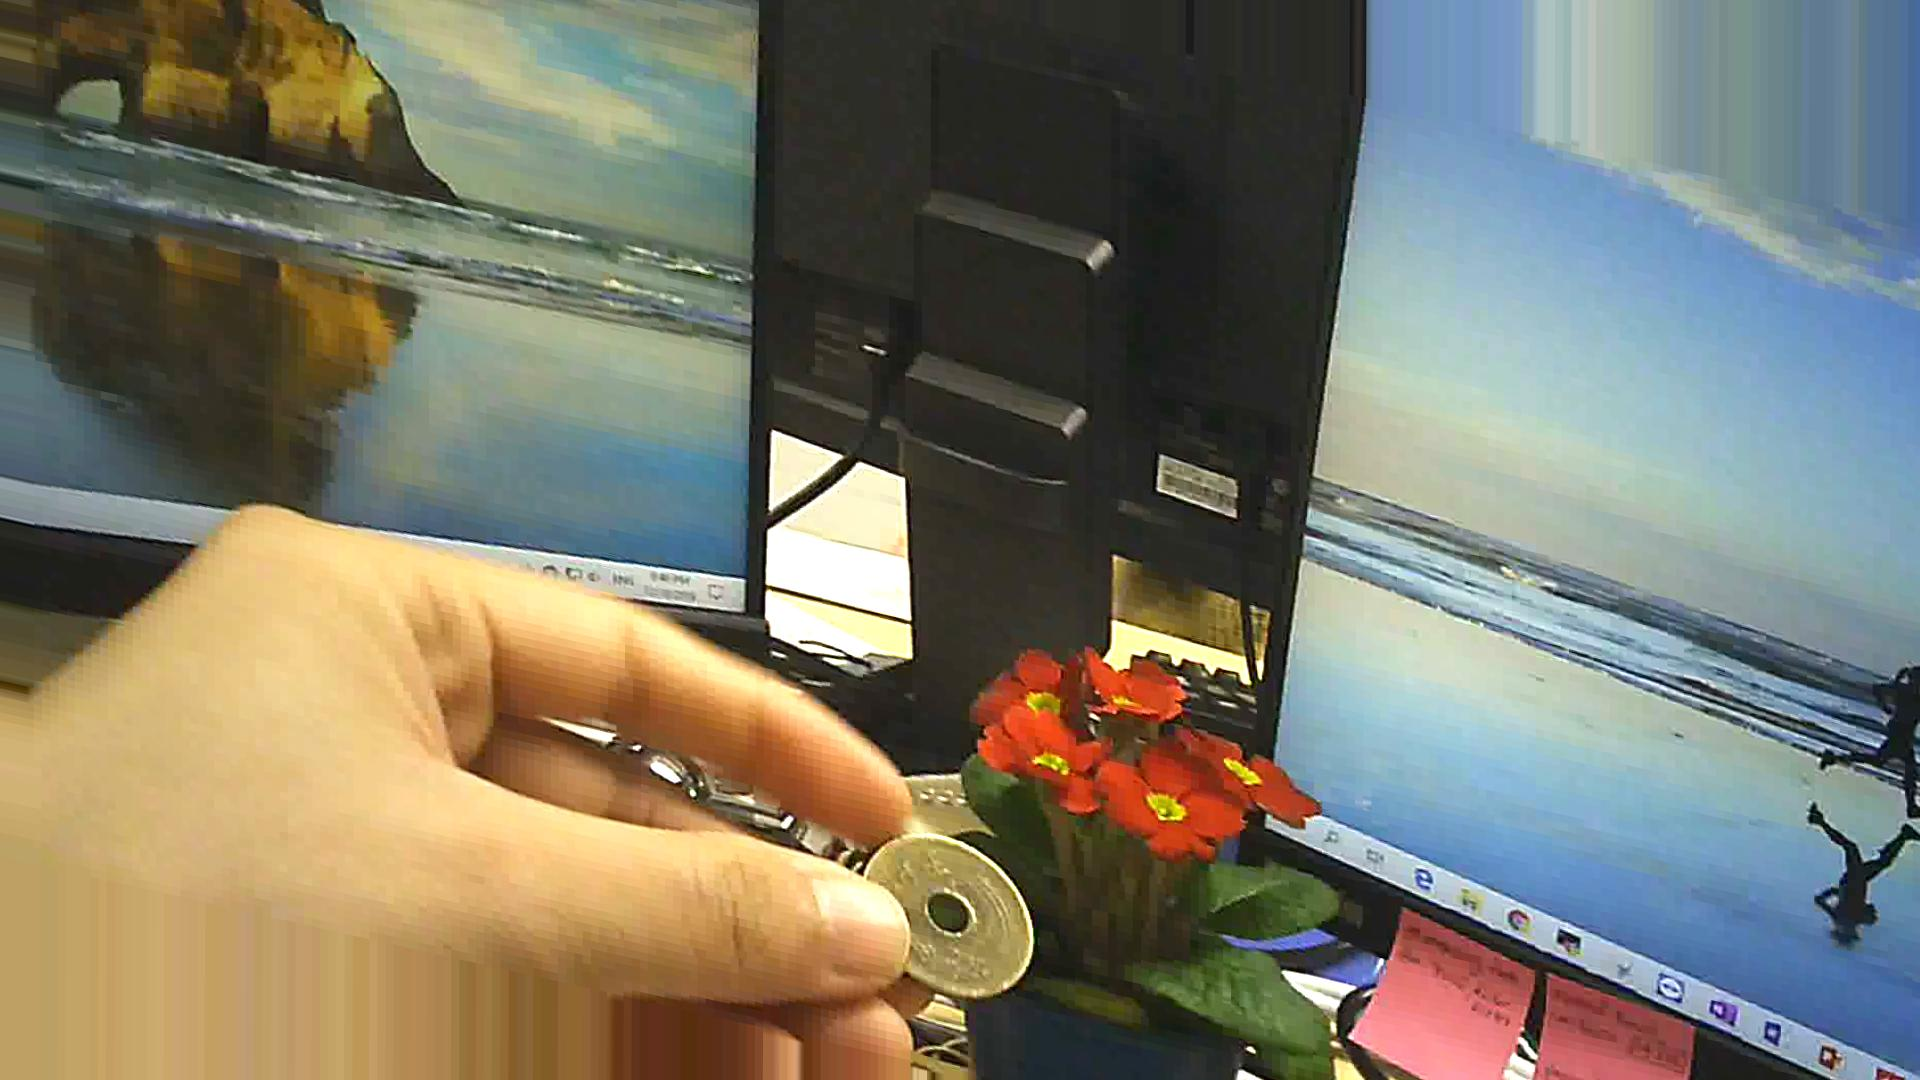5 Yen: (852, 820, 1031, 988)
